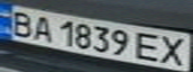1: (51, 17, 75, 47)
3: (90, 24, 112, 54)
8: (72, 20, 93, 51)
9: (109, 27, 133, 57)
A: (27, 12, 57, 43)
B: (3, 8, 39, 38)
E: (133, 29, 166, 62)
X: (157, 33, 193, 67)
